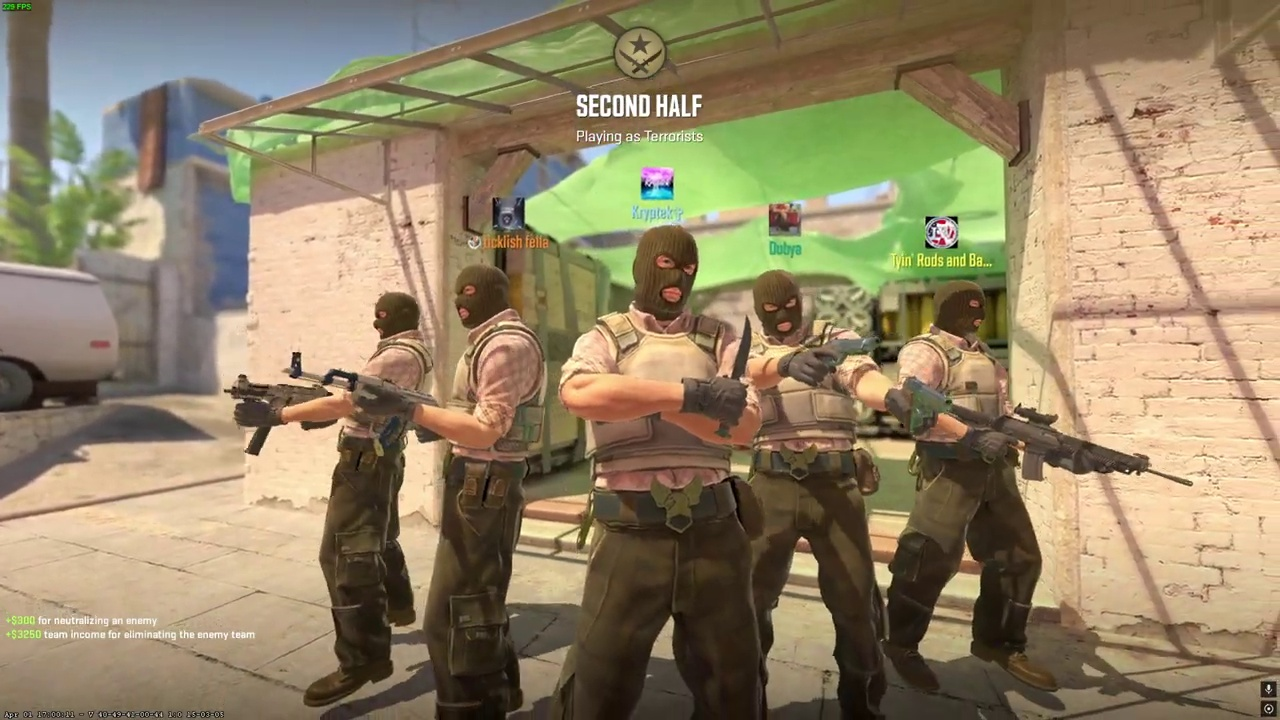Terrorist: (557, 225, 762, 720), (890, 279, 1068, 700), (733, 268, 885, 718), (295, 291, 440, 708), (420, 262, 543, 718)
